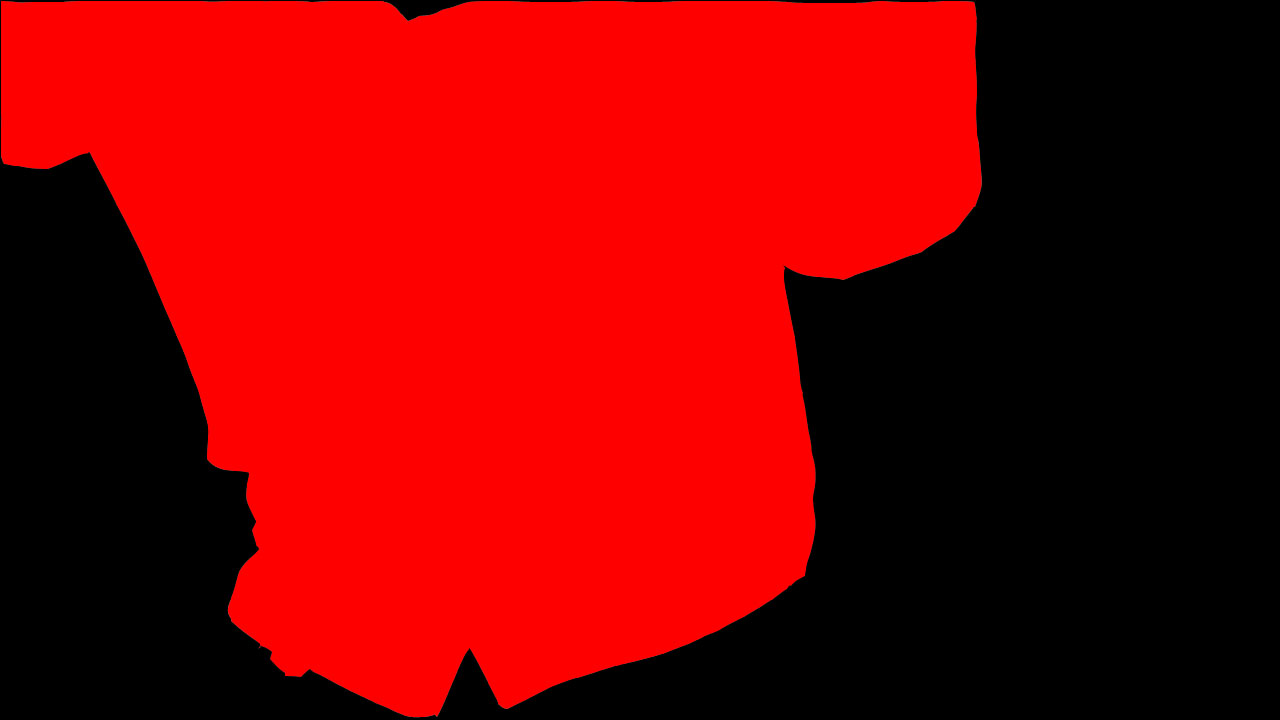uniforme_ifmt: (2, 2, 983, 720)
